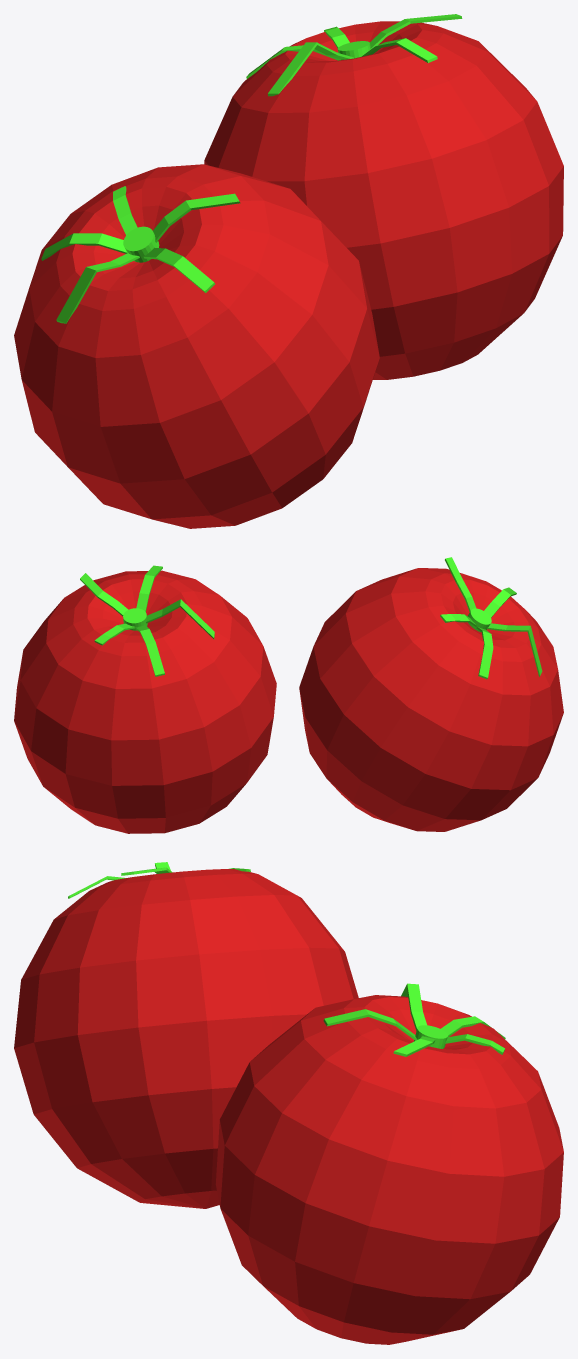
3 renders of one model, top to bottom at view 1: azimuth 30°, elevation 25°; view 2: azimuth 150°, elevation 25°; view 3: azimuth 270°, elevation 25°, orthographic. The views are drawn at different scales.
Visible parts, largest first — view 1: Sphere002, Sphere001, Box002, Box001; view 2: Sphere002, Sphere001, Box001, Box002; view 3: Sphere001, Sphere002, Box001.
Boxes of the visible parts, x1,y1,x2,y2 form: Sphere002: [14, 164, 379, 528]; Sphere001: [204, 21, 563, 379]; Box002: [41, 186, 240, 323]; Box001: [246, 14, 462, 96]; Sphere002: [299, 568, 563, 831]; Sphere001: [14, 570, 276, 833]; Box001: [80, 565, 214, 676]; Box002: [440, 557, 542, 679]; Sphere001: [215, 995, 563, 1344]; Sphere002: [14, 869, 358, 1208]; Box001: [323, 983, 505, 1056].
Bounding box in the file's own units: 454730 × 242231 × 371414.
